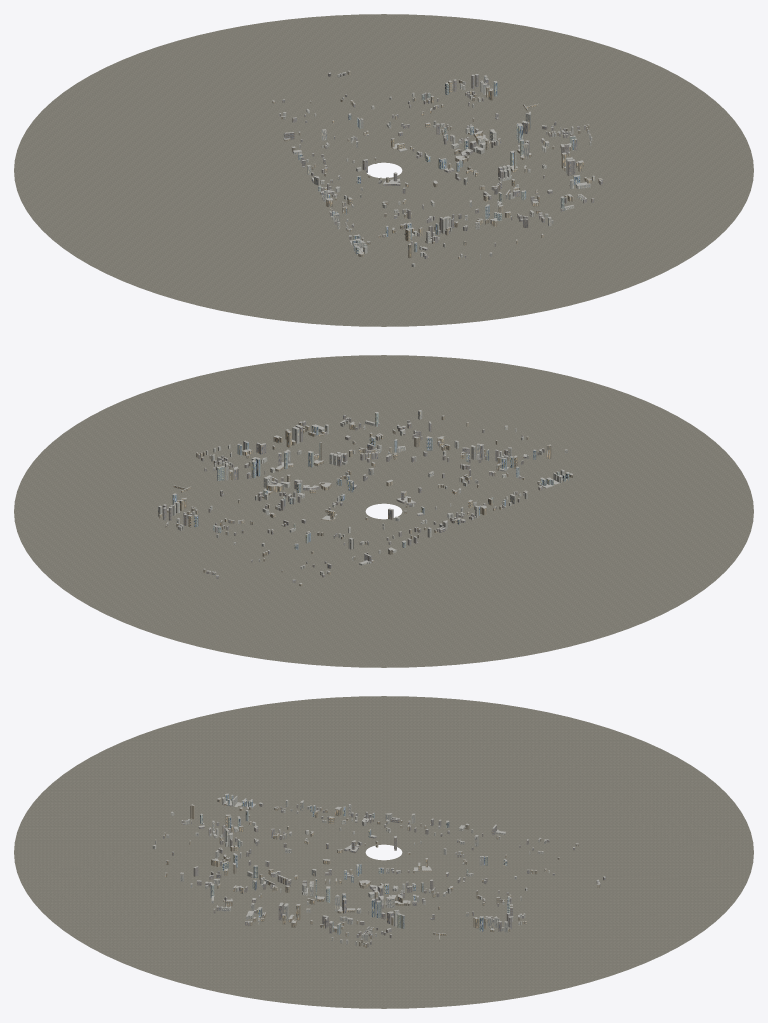
File: far.glb
The picture shows the model from 3 angles, top to bottom: view 1: azimuth 30°, elevation 25°; view 2: azimuth 150°, elevation 25°; view 3: azimuth 270°, elevation 25°; orthographic projection.
Parts seen in each view (by area): view 1: far_ground, far_roof, far_band, far_plaster, far_stone, far_glass; view 2: far_ground, far_roof, far_band, far_plaster, far_stone, far_glass; view 3: far_ground, far_roof, far_plaster, far_band, far_stone, far_glass.
Part boxes in pixels (x1=…): far_ground: x1=14, y1=14, x2=753, y2=326; far_roof: x1=272, y1=70, x2=602, y2=264; far_band: x1=279, y1=72, x2=603, y2=258; far_plaster: x1=283, y1=73, x2=594, y2=266; far_stone: x1=272, y1=71, x2=601, y2=259; far_glass: x1=298, y1=82, x2=580, y2=254; far_ground: x1=14, y1=355, x2=753, y2=667; far_roof: x1=158, y1=410, x2=572, y2=584; far_band: x1=162, y1=415, x2=562, y2=582; far_plaster: x1=158, y1=411, x2=567, y2=575; far_stone: x1=159, y1=416, x2=572, y2=586; far_glass: x1=172, y1=413, x2=569, y2=549; far_ground: x1=14, y1=696, x2=753, y2=1008; far_roof: x1=153, y1=793, x2=605, y2=943; far_plaster: x1=152, y1=796, x2=598, y2=945; far_band: x1=163, y1=803, x2=606, y2=946; far_stone: x1=164, y1=798, x2=599, y2=948; far_glass: x1=200, y1=794, x2=510, y2=934.
Bounding box in the file's own units: 8000 × 300 × 8000.
Materials: 6 (6 with a texture image).
